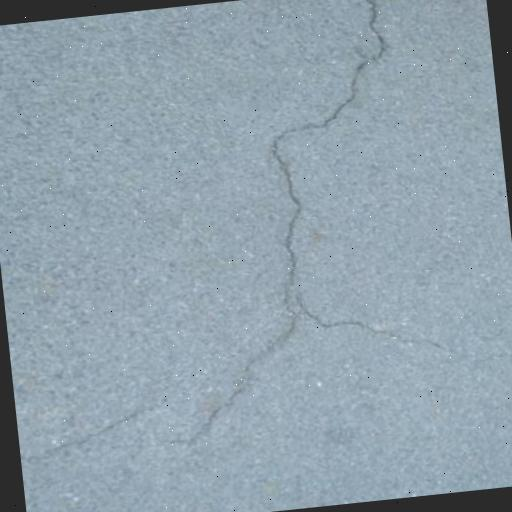spalling: (31, 0, 405, 476), (291, 289, 439, 359)
